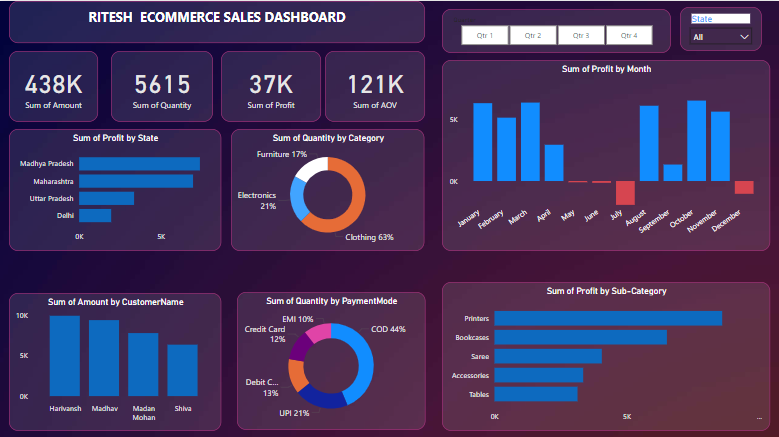

This screenshot's page, from the dashboard's own definition file:
{"tool":"powerbi","page":{"name":"Page 1","canvas":[1280,720],"ordinal":0},"visuals":[{"type":"textbox","box":[16.4,0,682,68.9],"z":0},{"type":"columnChart","fields":{"Category":["Orders.Order Date.Variation.Date Hierarchy.Month"],"Y":["Details.Profit"]},"box":[725.9,97,537.8,313],"z":1000},{"type":"barChart","fields":{"Category":["Details.Sub-Category"],"Y":["Details.Profit"]},"box":[725.9,459.9,537.8,243.9],"z":2000},{"type":"donutChart","fields":{"Y":["Details.Quantity"],"Category":["Details.PaymentMode"]},"box":[389.4,477.6,308.6,226.3],"z":3000},{"type":"donutChart","fields":{"Y":["Details.Quantity"],"Category":["Details.Category"]},"box":[380.6,210.1,317.4,199.8],"z":4000},{"type":"card","fields":{"Values":["Details.Amount"]},"box":[16.4,82,145.9,116.4],"z":5000},{"type":"card","fields":{"Values":["Details.Quantity"]},"box":[183.6,82,167.2,116.4],"z":6000},{"type":"card","fields":{"Values":["Details.Profit"]},"box":[363.9,82,163.9,116.4],"z":7000},{"type":"card","fields":{"Values":["Details.AOV"]},"box":[534.4,82,163.9,116.4],"z":8000},{"type":"barChart","fields":{"Category":["Orders.State"],"Y":["Details.Profit"]},"box":[16.4,209.8,347.5,200],"z":9000},{"type":"columnChart","fields":{"Category":["Orders.CustomerName"],"Y":["Details.Amount"]},"box":[16,478,348,226],"z":10000},{"type":"slicer","fields":{"Values":["Orders.Order Date.Variation.Date Hierarchy.Quarter"]},"box":[726.2,13.1,375.4,72.1],"z":11000},{"type":"slicer","fields":{"Values":["Orders.State"]},"box":[1116.4,9.8,134.4,72.1],"z":11001}]}

Visuals, with their boxes in screenshot pixels (x1, y1, x2, y2), scaled from the page's 1280x720 canvas onto the 779x437 screenshot:
textbox: [x1=10, y1=0, x2=425, y2=42]
columnChart - Orders.Order Date.Variation.Date Hierarchy.Month x Details.Profit: [x1=442, y1=59, x2=769, y2=249]
barChart - Details.Sub-Category x Details.Profit: [x1=442, y1=279, x2=769, y2=427]
donutChart - Details.Quantity x Details.PaymentMode: [x1=237, y1=290, x2=425, y2=427]
donutChart - Details.Quantity x Details.Category: [x1=232, y1=128, x2=425, y2=249]
card - Details.Amount: [x1=10, y1=50, x2=99, y2=120]
card - Details.Quantity: [x1=112, y1=50, x2=213, y2=120]
card - Details.Profit: [x1=221, y1=50, x2=321, y2=120]
card - Details.AOV: [x1=325, y1=50, x2=425, y2=120]
barChart - Orders.State x Details.Profit: [x1=10, y1=127, x2=221, y2=249]
columnChart - Orders.CustomerName x Details.Amount: [x1=10, y1=290, x2=222, y2=427]
slicer - Orders.Order Date.Variation.Date Hierarchy.Quarter: [x1=442, y1=8, x2=670, y2=52]
slicer - Orders.State: [x1=679, y1=6, x2=761, y2=50]
